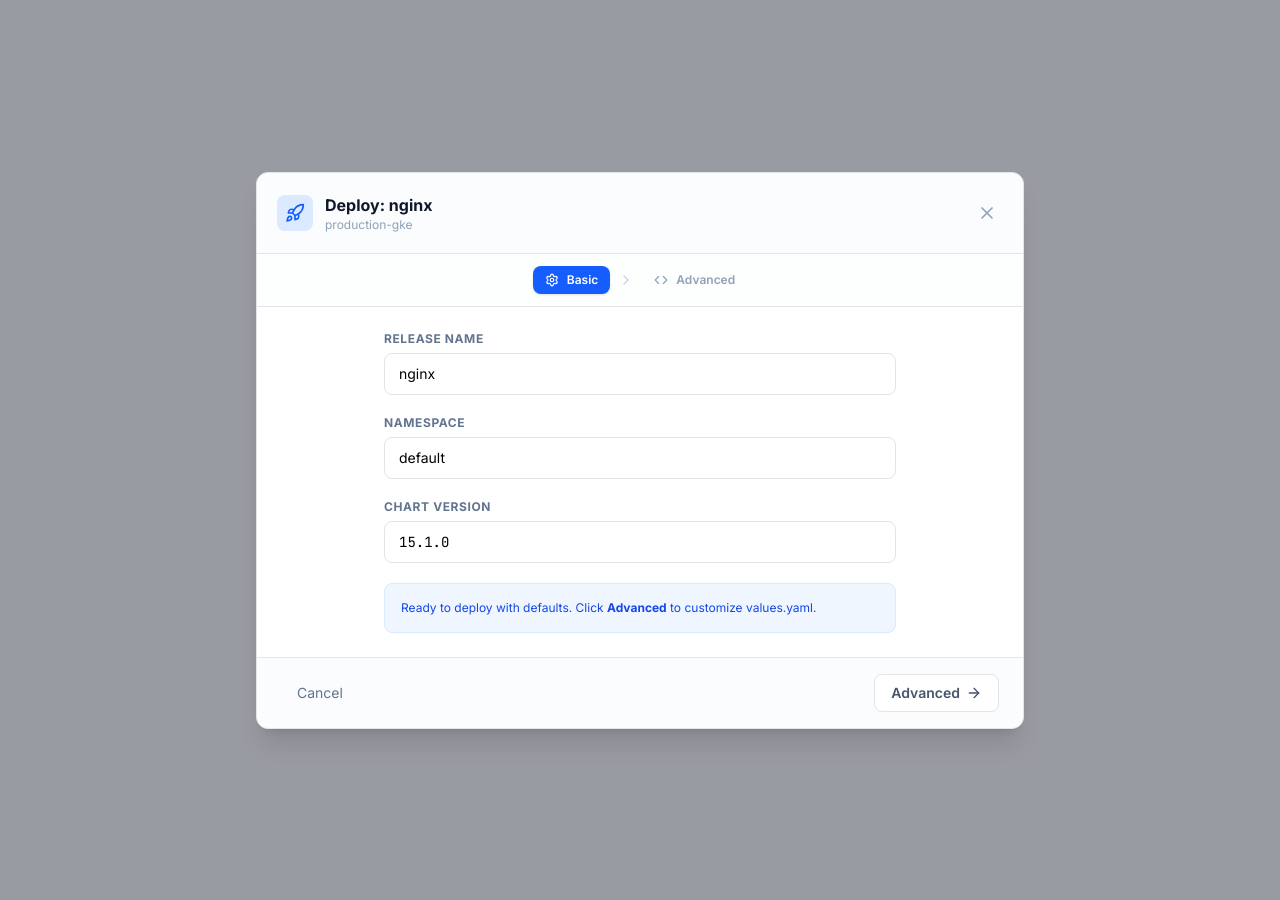
it: InstallChartModal › Advanced button in Basic step footer navigates to Advanced
Click the button "Advanced" below "to customize values.yaml." at {"x": 937, "y": 692}, box [874,674,999,712]
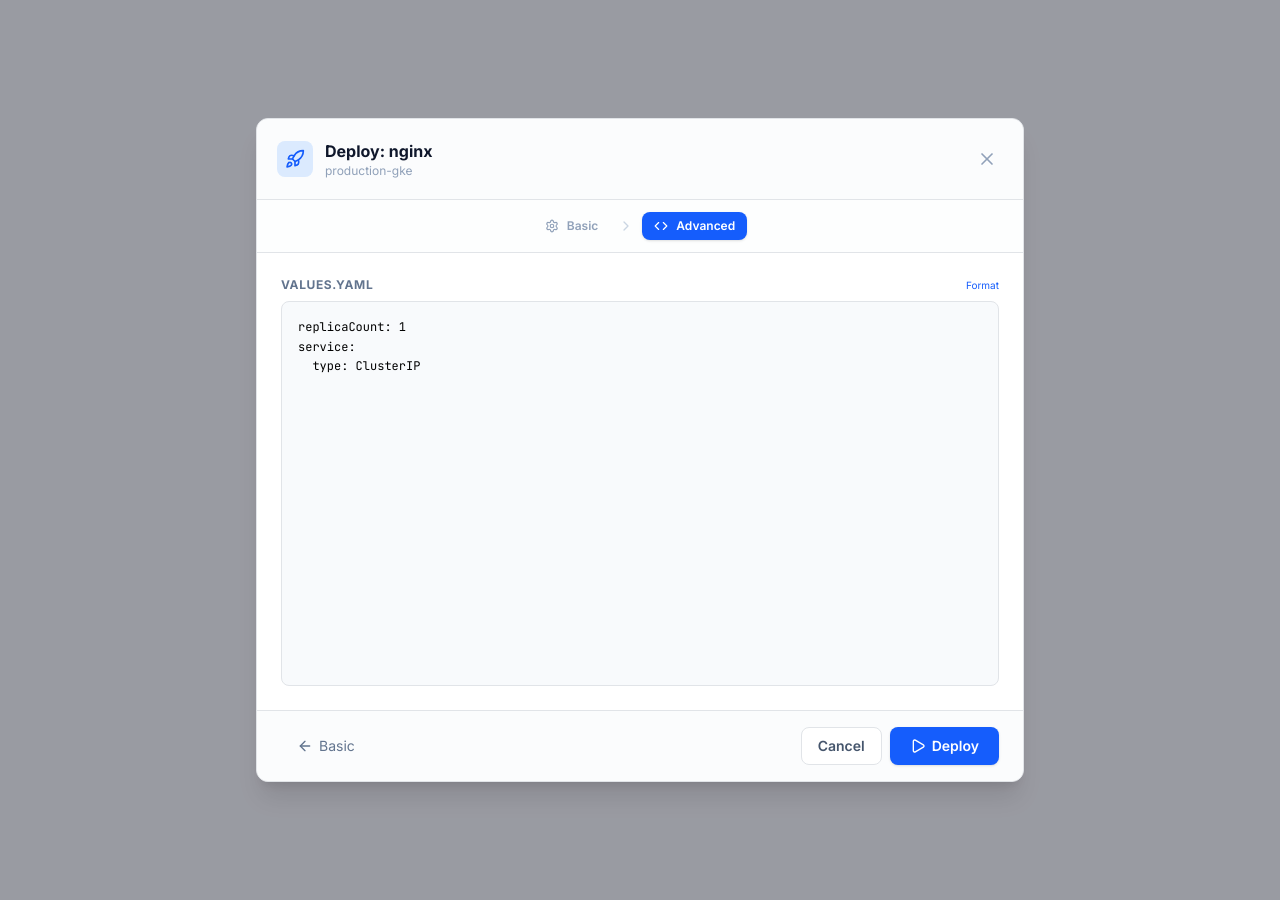
Check: the text "values.yaml" is shown, box [281,277,373,293]
